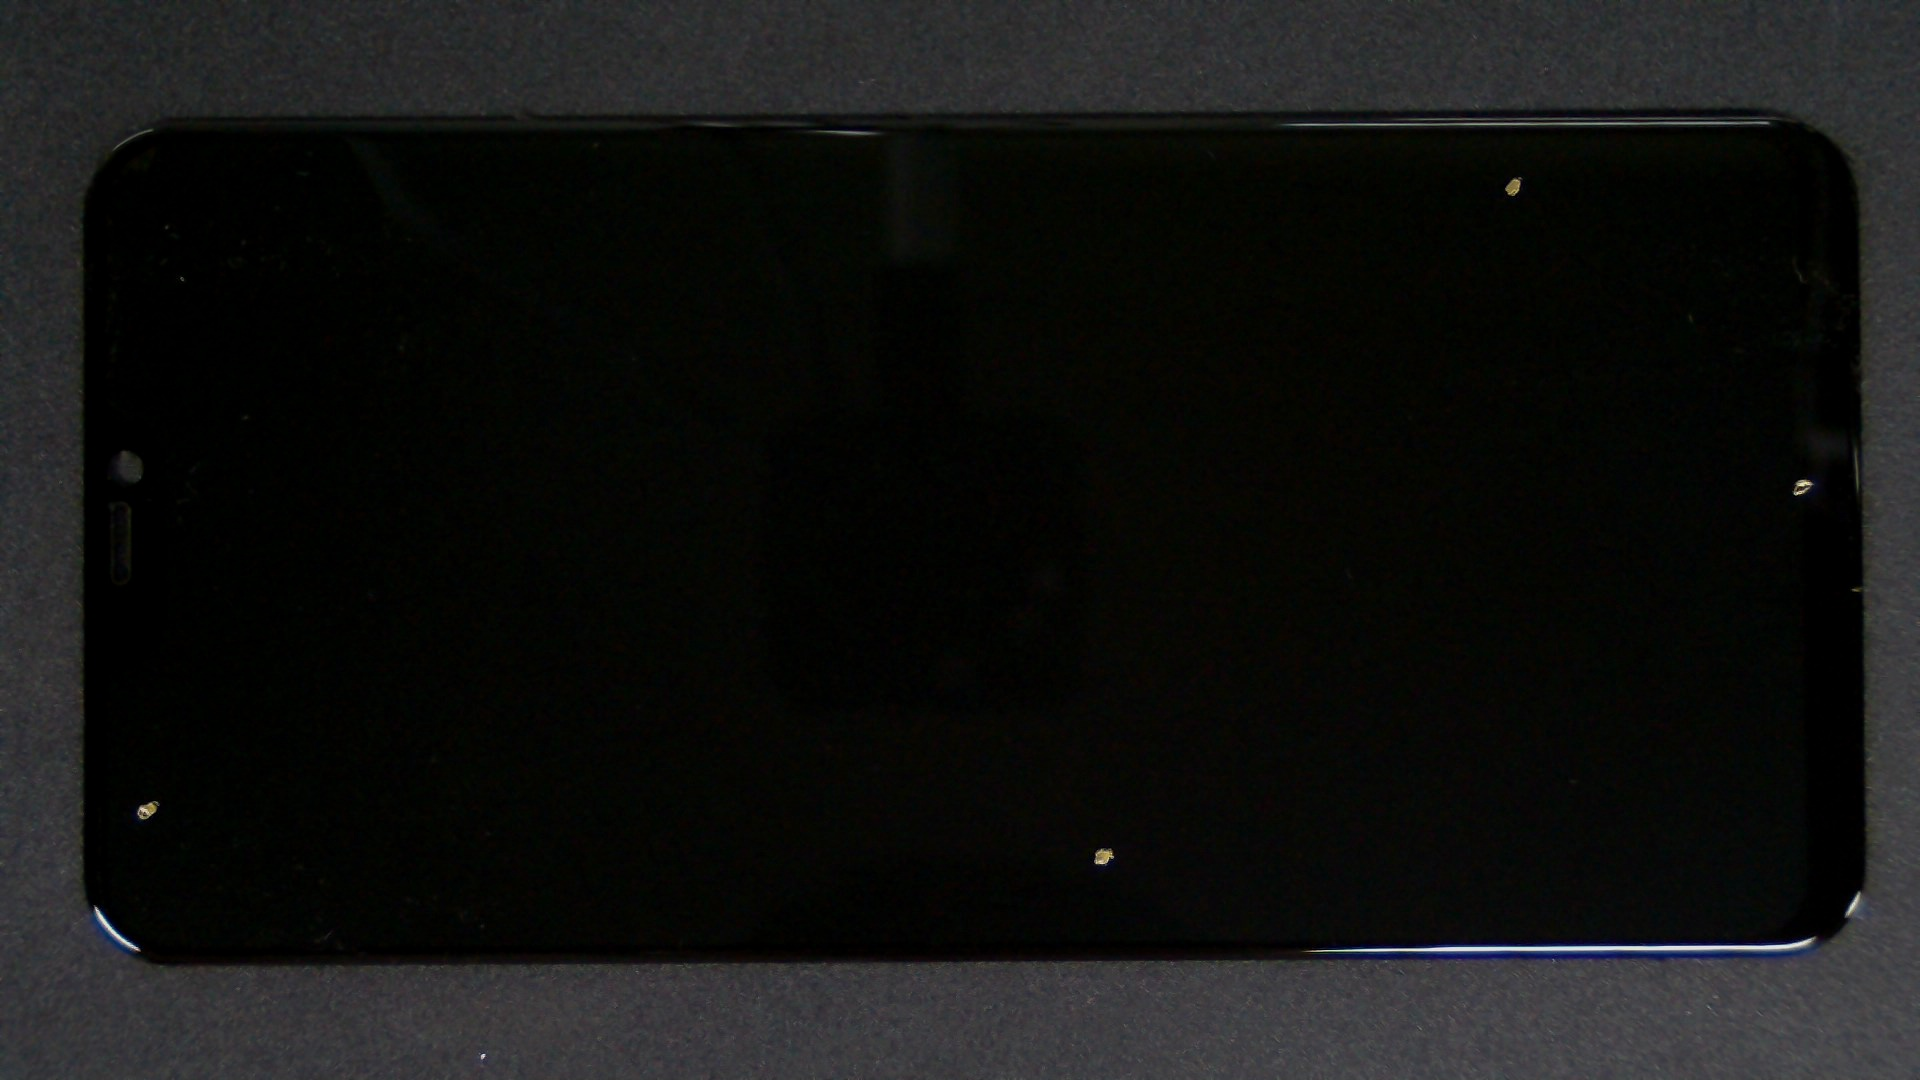oil: (554, 422, 1659, 1080), (906, 237, 1920, 715), (761, 87, 1920, 262), (76, 400, 228, 1080)
